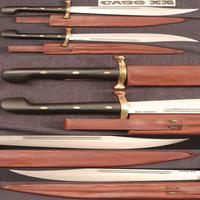knife: (6, 53, 198, 94), (1, 93, 200, 120), (1, 25, 199, 47), (4, 129, 194, 150), (6, 165, 200, 181), (2, 5, 200, 17)
